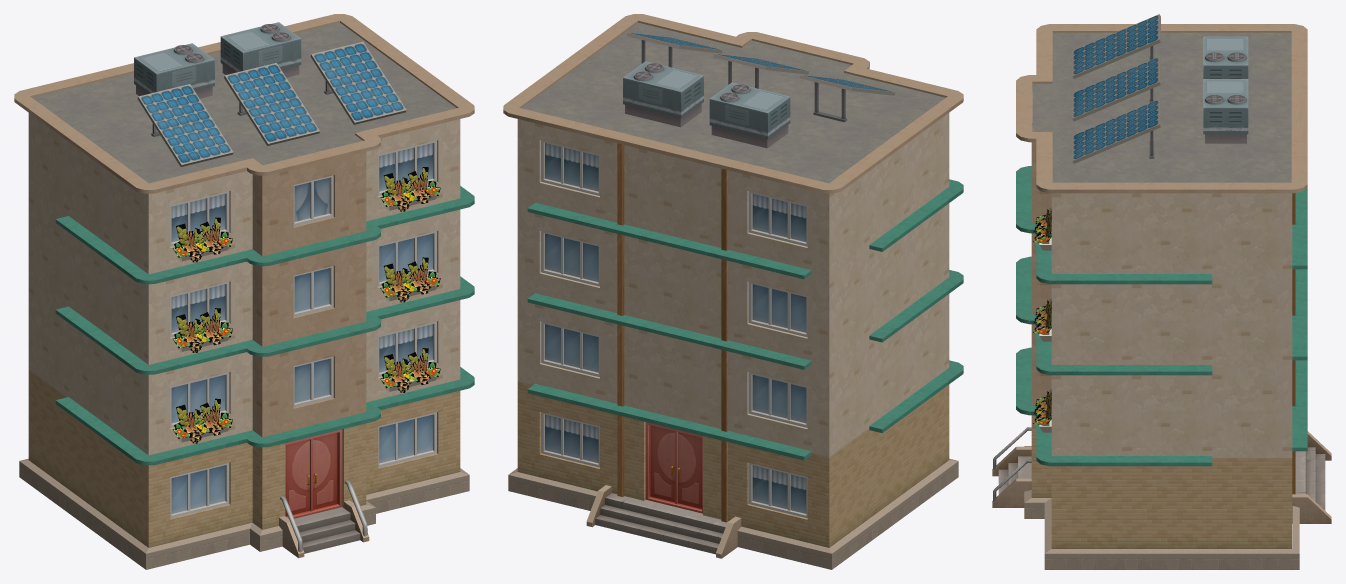
File: Building_5-transformed.glb
3 renders of one model, left to right at view 1: azimuth 30°, elevation 25°; view 2: azimuth 150°, elevation 25°; view 3: azimuth 270°, elevation 25°, orthographic.
Visible parts, largest first — view 1: Building_5_Decor_2; view 2: Building_5_Decor_2; view 3: Building_5_Decor_2.
Part boxes in pixels (x1=…): Building_5_Decor_2: x1=14, y1=14, x2=474, y2=569; Building_5_Decor_2: x1=503, y1=14, x2=963, y2=569; Building_5_Decor_2: x1=992, y1=14, x2=1331, y2=569.
Bounding box in the file's own units: 9.76 × 11.59 × 8.45.
Materials: 15 (15 with a texture image).
